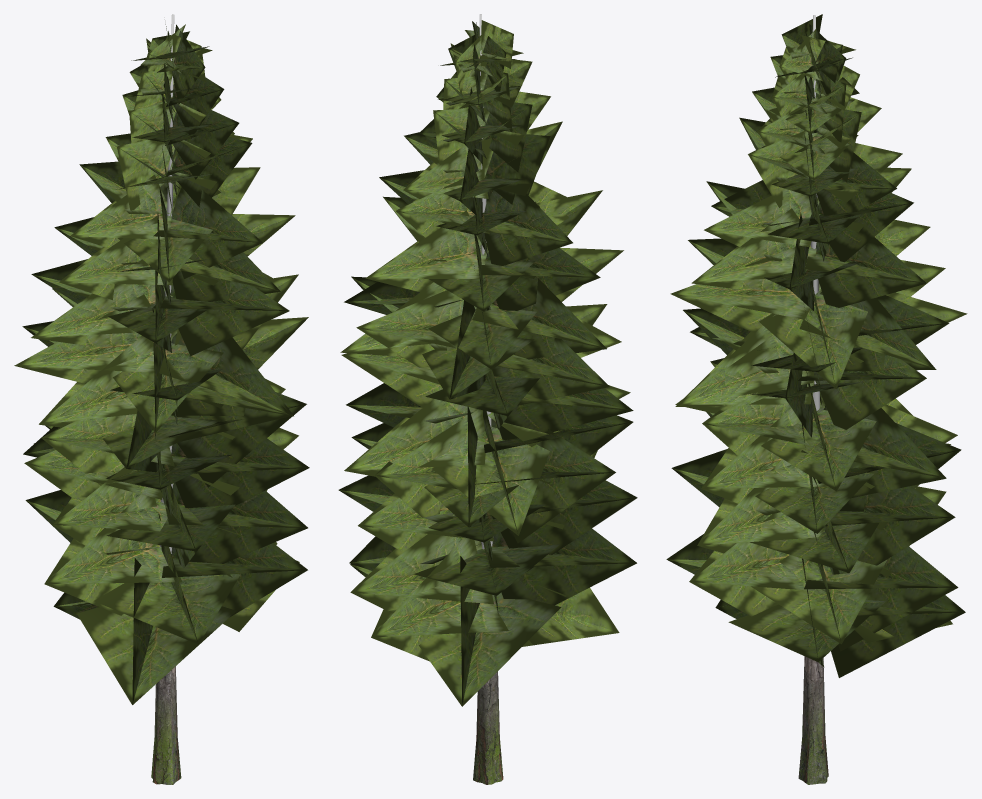
Rendered from pine2.obj.
3 views of the same model, side by side, from view 1: azimuth 30°, elevation 25°; view 2: azimuth 150°, elevation 25°; view 3: azimuth 270°, elevation 25° (orthographic).
Visible parts, largest first — view 1: branch08, pine_blend; view 2: branch08, pine_blend; view 3: branch08, pine_blend.
Part boxes in pixels (x1,y1,x2,y2): branch08: (14,24,309,704); pine_blend: (151,666,181,784); branch08: (338,20,637,706); pine_blend: (473,671,503,784); branch08: (666,14,967,677); pine_blend: (798,656,828,784).
Bounding box in the file's own units: 13.5 × 36.03 × 12.83.
